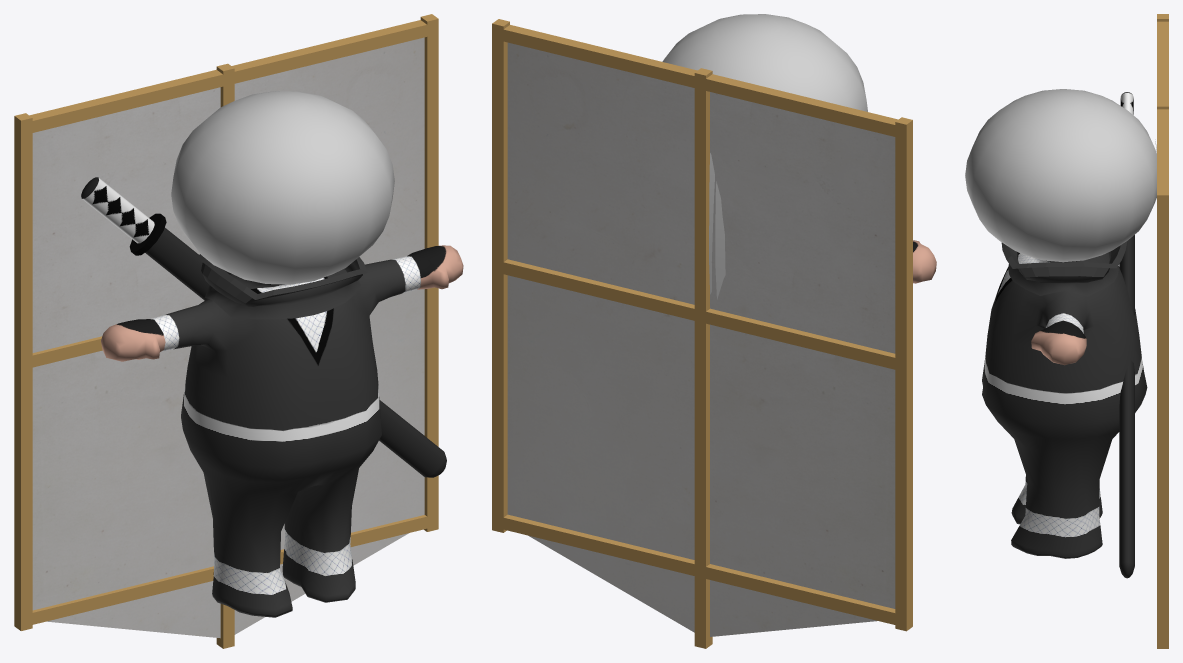
Rendered from chara.fbx.
The picture shows the model from 3 angles, left to right: view 1: azimuth 30°, elevation 25°; view 2: azimuth 150°, elevation 25°; view 3: azimuth 270°, elevation 25°; orthographic projection. The views are drawn at different scales.
Visible parts, largest first — view 1: pCube1, polySurface3, pCube5, pCube4, pCylinder1, pCube6, polySurface2, pCube2, pCube7, pCube3; view 2: pCube1, polySurface3, pCube5, pCube7, pCube6, pCube4, pCube3, pCube2, polySurface4; view 3: polySurface3, pCube6, pCylinder1, polySurface2, pCube4.
Boxes of the visible parts, left/top/right/bottom form: pCube1: left=32, top=37, right=424, bottom=638; polySurface3: left=101, top=91, right=463, bottom=617; pCube5: left=14, top=113, right=32, bottom=630; pCube4: left=24, top=20, right=437, bottom=132; pCylinder1: left=81, top=177, right=446, bottom=477; pCube6: left=420, top=14, right=438, bottom=531; polySurface2: left=197, top=254, right=367, bottom=319; pCube2: left=23, top=515, right=437, bottom=624; pCube7: left=216, top=63, right=234, bottom=648; pCube3: left=23, top=336, right=102, bottom=369; pCube1: left=507, top=42, right=895, bottom=636; polySurface3: left=662, top=14, right=936, bottom=283; pCube5: left=895, top=117, right=912, bottom=631; pCube7: left=694, top=68, right=712, bottom=648; pCube6: left=492, top=19, right=509, bottom=532; pCube4: left=493, top=25, right=903, bottom=138; pCube3: left=493, top=259, right=904, bottom=371; pCube2: left=494, top=514, right=904, bottom=624; polySurface4: left=715, top=181, right=725, bottom=299; polySurface3: left=965, top=89, right=1156, bottom=558; pCube6: left=1157, top=190, right=1168, bottom=648; pCylinder1: left=1119, top=92, right=1134, bottom=578; polySurface2: left=1001, top=241, right=1127, bottom=296; pCube4: left=1157, top=21, right=1168, bottom=190.
Size of the model in its own units: 600 by 800 by 285.
